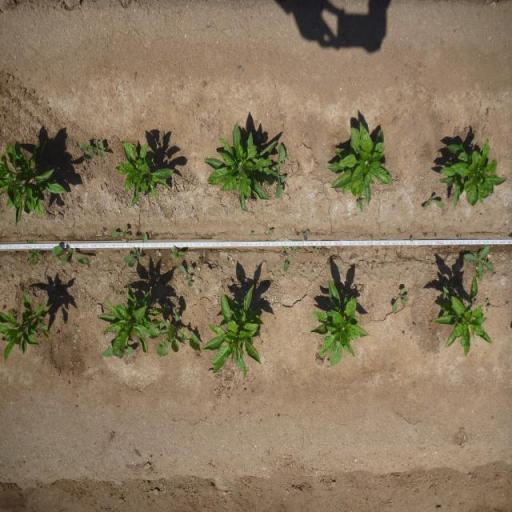plant: (0, 136, 70, 228), (203, 119, 268, 215), (202, 284, 264, 380), (310, 275, 369, 369), (327, 120, 393, 196), (441, 134, 508, 208), (433, 274, 487, 358), (114, 139, 176, 207), (0, 292, 54, 364), (96, 278, 148, 348), (355, 197, 367, 213)
weed: (148, 310, 201, 358), (268, 143, 290, 200), (463, 244, 496, 278), (123, 232, 148, 269), (51, 246, 91, 266), (78, 138, 106, 160), (278, 246, 300, 272), (22, 238, 42, 266), (392, 288, 409, 313), (422, 193, 444, 211), (178, 264, 194, 288), (111, 226, 128, 238), (170, 248, 186, 260), (125, 235, 138, 243), (485, 299, 492, 313), (12, 309, 19, 321), (302, 230, 310, 240), (163, 303, 171, 312), (100, 227, 107, 237), (267, 227, 274, 236), (256, 329, 262, 337), (172, 298, 178, 306), (396, 227, 402, 234), (197, 257, 203, 264), (360, 284, 366, 290), (422, 232, 428, 238), (11, 251, 17, 257), (312, 248, 319, 253), (433, 232, 438, 238), (409, 237, 414, 242), (412, 324, 418, 328), (456, 234, 462, 238), (370, 244, 374, 250), (2, 304, 6, 310), (118, 292, 124, 296), (56, 330, 61, 334), (375, 254, 378, 260), (338, 252, 340, 260), (376, 248, 378, 254), (309, 262, 312, 266), (402, 332, 405, 336), (250, 232, 253, 234)
